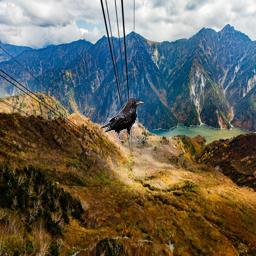Crow: (99, 98, 144, 141)
